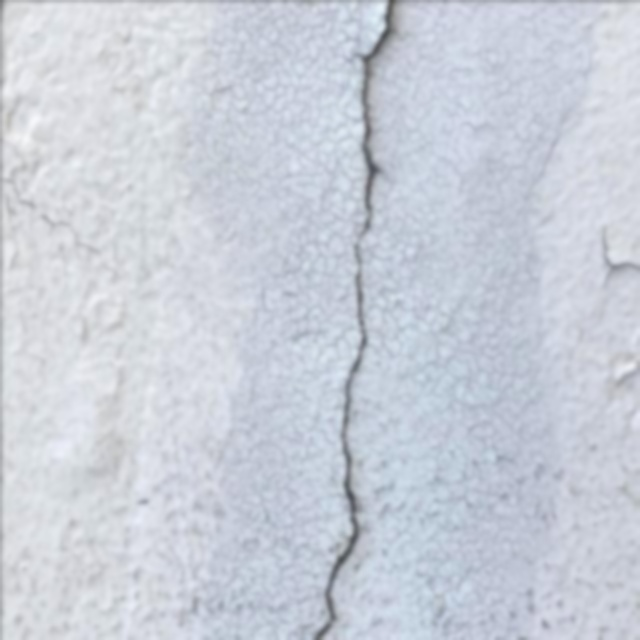SurfaceCrack: (282, 0, 433, 640)
